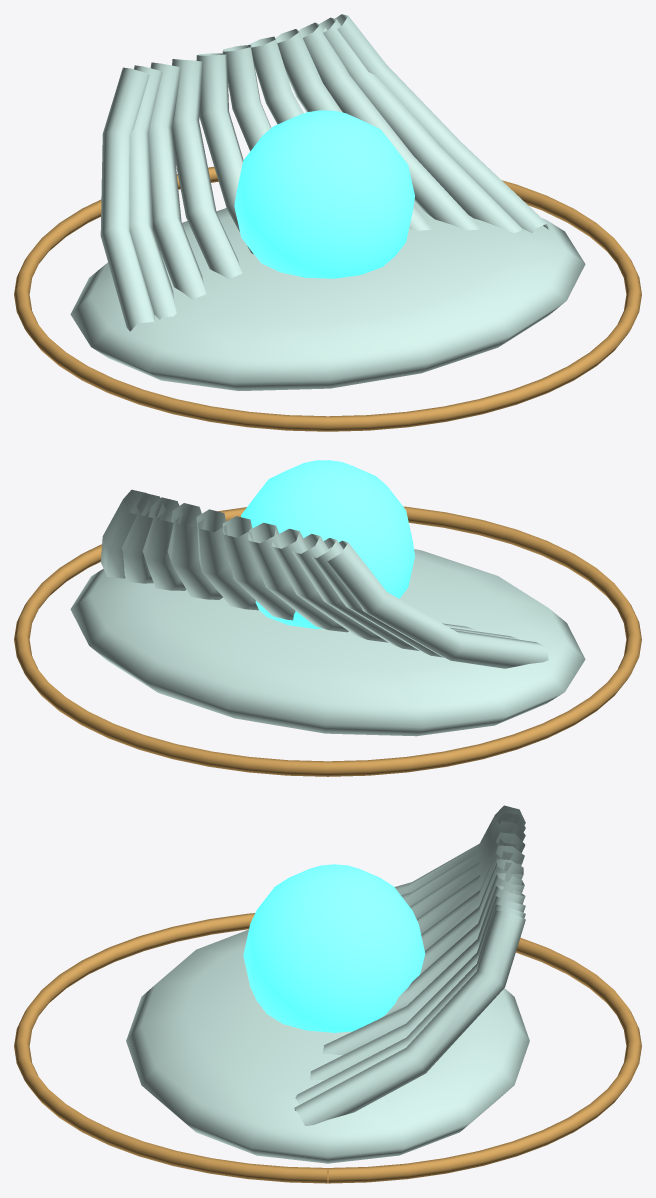
The model's file is goal_sanctuary.glb.
3 renders of one model, top to bottom at view 1: azimuth 30°, elevation 25°; view 2: azimuth 150°, elevation 25°; view 3: azimuth 270°, elevation 25°, orthographic.
Parts seen in each view (by area): view 1: goal_sanctuary.001; view 2: goal_sanctuary.001; view 3: goal_sanctuary.001.
Part boxes in pixels (x1,y1,x2,y2): goal_sanctuary.001: [14, 14, 641, 431]; goal_sanctuary.001: [14, 460, 641, 776]; goal_sanctuary.001: [14, 805, 641, 1183].
Size of the model in its own units: 1.93 by 0.7589 by 1.93.
